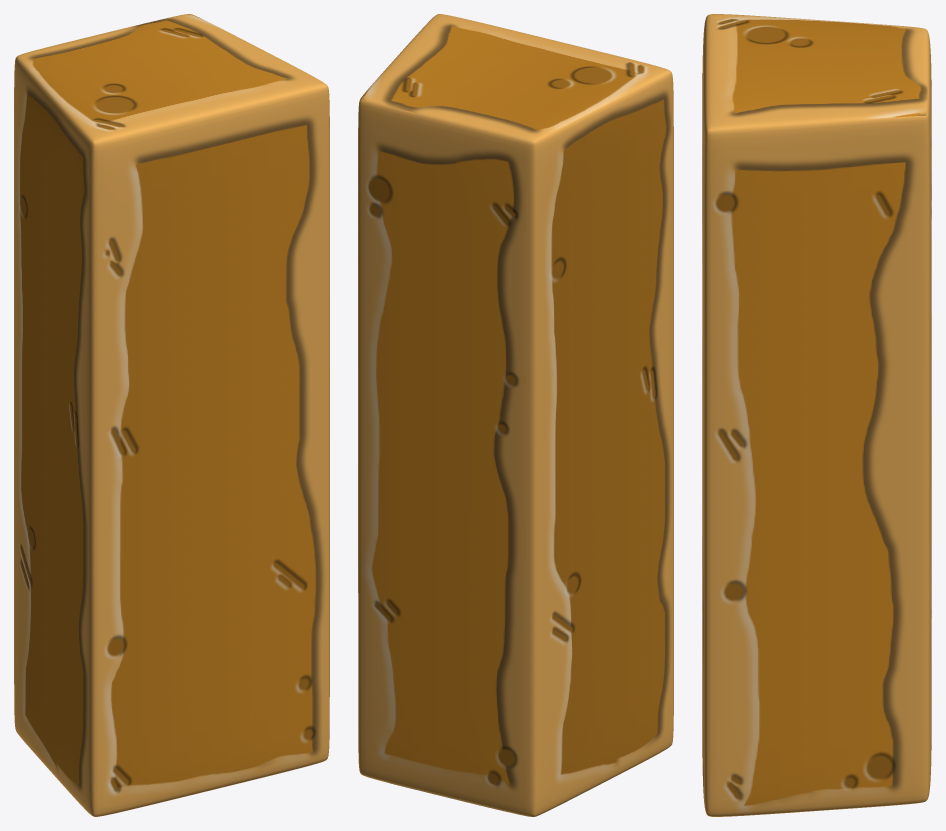
The model's file is Gold.fbx.
3 views of the same model, side by side, from view 1: azimuth 30°, elevation 25°; view 2: azimuth 150°, elevation 25°; view 3: azimuth 270°, elevation 25° (orthographic).
Parts seen in each view (by area): view 1: Gold_BAR; view 2: Gold_BAR; view 3: Gold_BAR.
Boxes of the visible parts, bbox=[...] form: Gold_BAR: bbox=[14, 14, 329, 816]; Gold_BAR: bbox=[358, 14, 673, 816]; Gold_BAR: bbox=[702, 14, 931, 816].
Bounding box in the file's own units: 221 × 603 × 181.
